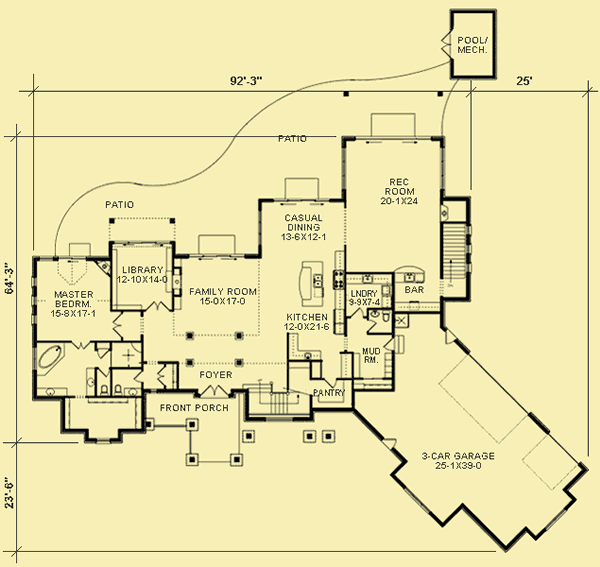kitchen has a twin sink and cooking range: (259, 245, 347, 339)
laundry room has washer and dryer: (344, 271, 394, 309)
master bathroom has a bathtub with large sink and sink: (33, 341, 111, 399)
small bathroom has small and large sink: (107, 367, 143, 399), (365, 307, 394, 333)
there are stairs in the open area: (243, 360, 313, 425)
